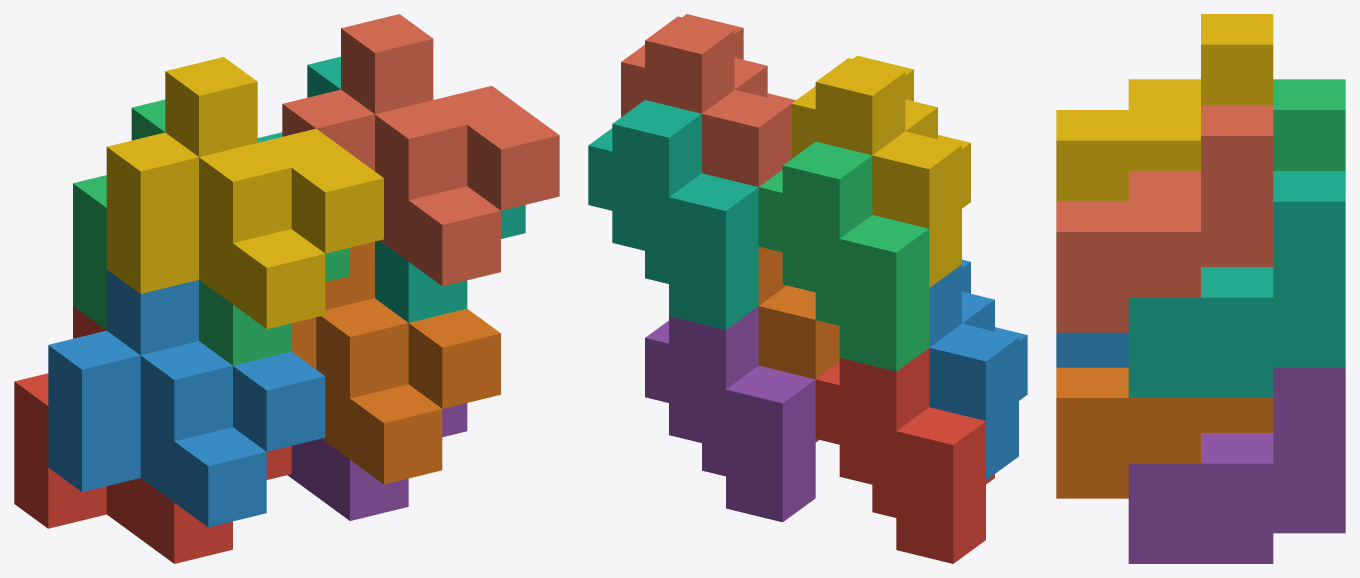
The model's file is tiling.obj.
3 views of the same model, side by side, from view 1: azimuth 30°, elevation 25°; view 2: azimuth 150°, elevation 25°; view 3: azimuth 270°, elevation 25° (orthographic). The views are drawn at different scales.
Visible parts, largest first — view 1: copy_1_domain_4, copy_1_domain_2, copy_1_domain_8, copy_1_domain_6, copy_1_domain_1, copy_1_domain_3, copy_1_domain_7, copy_1_domain_5; view 2: copy_1_domain_3, copy_1_domain_7, copy_1_domain_1, copy_1_domain_5, copy_1_domain_4, copy_1_domain_8, copy_1_domain_2, copy_1_domain_6; view 3: copy_1_domain_7, copy_1_domain_8, copy_1_domain_5, copy_1_domain_4, copy_1_domain_6, copy_1_domain_3, copy_1_domain_2.
Boxes of the visible parts, left/top/right/bottom form: copy_1_domain_4: left=106, top=57, right=383, bottom=328; copy_1_domain_2: left=48, top=269, right=325, bottom=527; copy_1_domain_8: left=282, top=14, right=559, bottom=286; copy_1_domain_6: left=291, top=241, right=500, bottom=484; copy_1_domain_1: left=14, top=306, right=291, bottom=563; copy_1_domain_3: left=73, top=99, right=349, bottom=365; copy_1_domain_7: left=257, top=56, right=525, bottom=322; copy_1_domain_5: left=287, top=403, right=467, bottom=520; copy_1_domain_3: left=758, top=141, right=929, bottom=371; copy_1_domain_7: left=588, top=100, right=758, bottom=329; copy_1_domain_1: left=815, top=348, right=994, bottom=563; copy_1_domain_5: left=645, top=306, right=818, bottom=522; copy_1_domain_4: left=791, top=55, right=970, bottom=287; copy_1_domain_8: left=621, top=14, right=795, bottom=186; copy_1_domain_2: left=929, top=259, right=1027, bottom=480; copy_1_domain_6: left=758, top=246, right=839, bottom=379; copy_1_domain_7: left=1128, top=171, right=1345, bottom=397; copy_1_domain_8: left=1056, top=105, right=1273, bottom=332; copy_1_domain_5: left=1128, top=367, right=1345, bottom=563; copy_1_domain_4: left=1056, top=14, right=1273, bottom=201; copy_1_domain_6: left=1056, top=367, right=1273, bottom=498; copy_1_domain_3: left=1273, top=79, right=1345, bottom=170; copy_1_domain_2: left=1056, top=332, right=1128, bottom=367.
Size of the model in its own units: 7 by 7 by 4.
